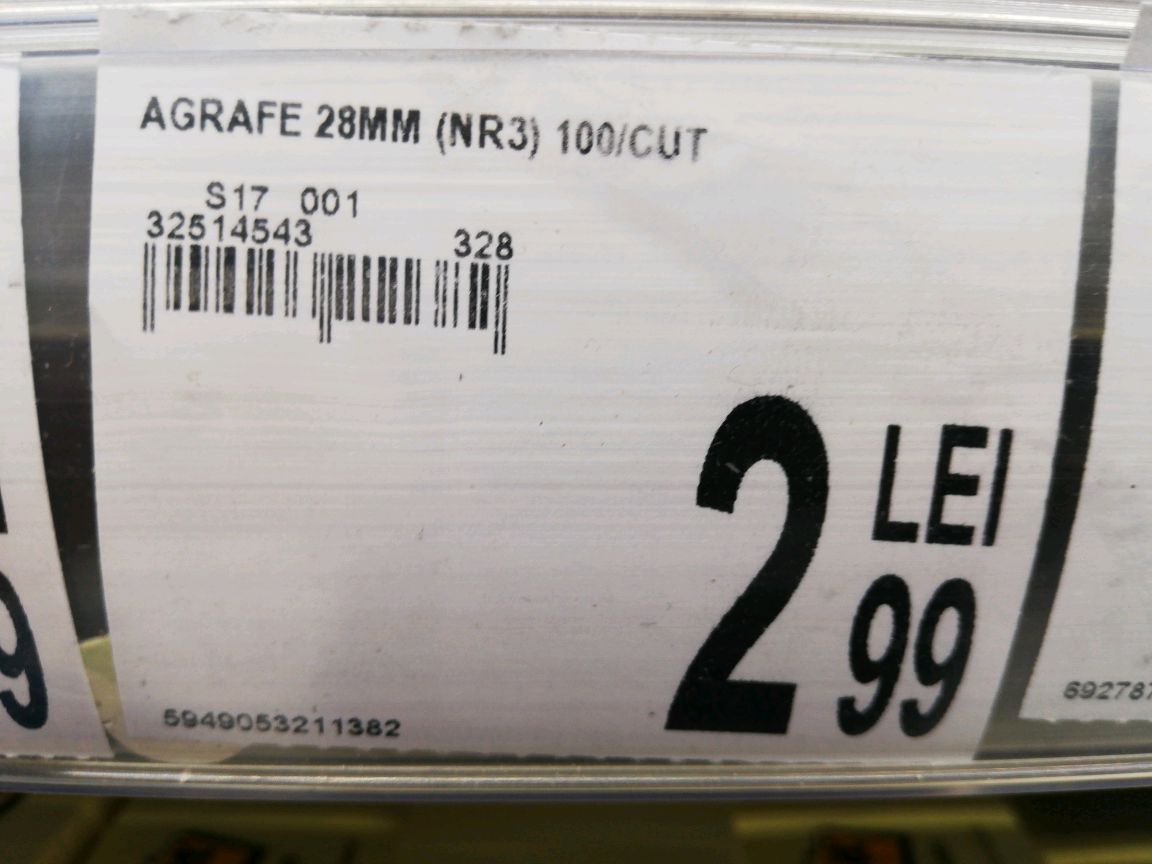price_bani: (832, 572, 991, 753)
price_lei: (654, 382, 832, 742)
price_tag: (85, 3, 1091, 769)
product_id: (153, 701, 418, 744)
product_name: (125, 82, 725, 168)
